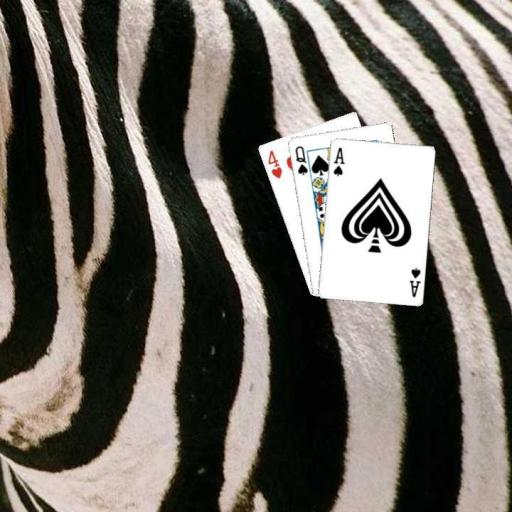4H: (264, 146, 283, 180)
AS: (406, 264, 422, 299), (330, 144, 346, 177)
QS: (292, 143, 309, 177)
